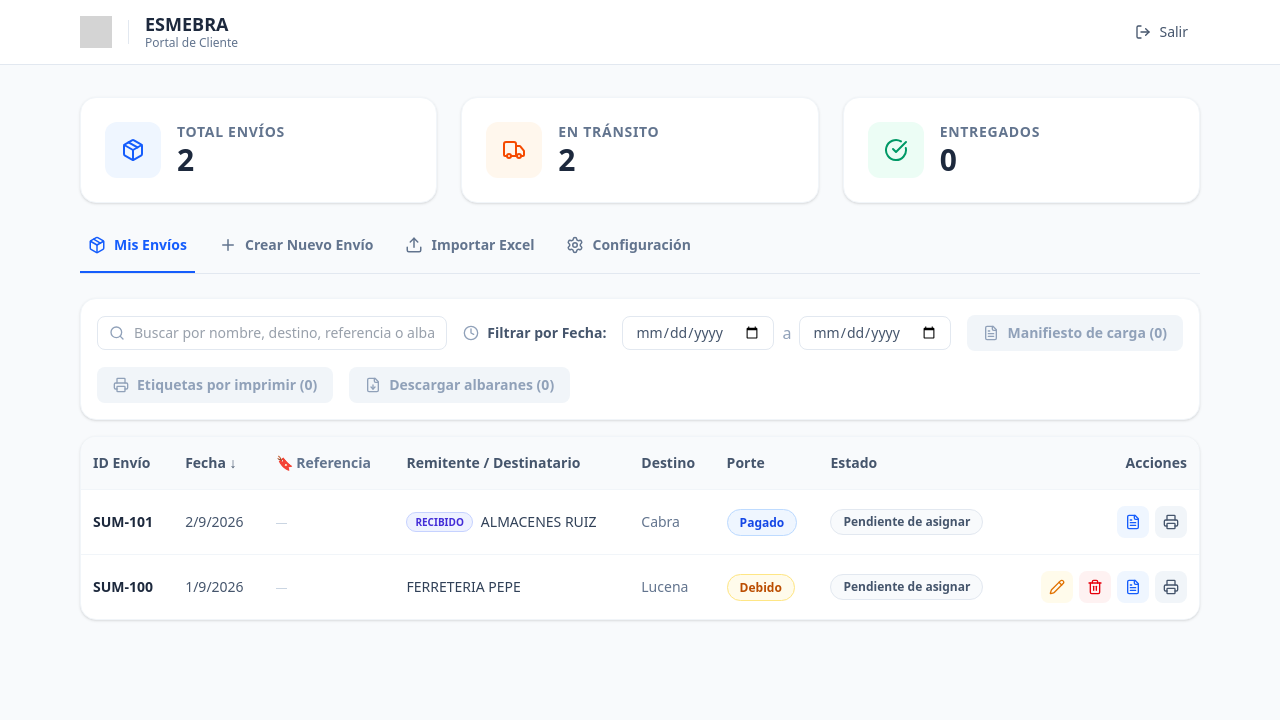
it: ClientDashboard · buscador › Limpiar filtros vacía también el buscador
This screenshot has width=1280, height=720.
Type "nada de nada" into the field named "buscar envíos" at [272, 333], box [97, 316, 447, 350]
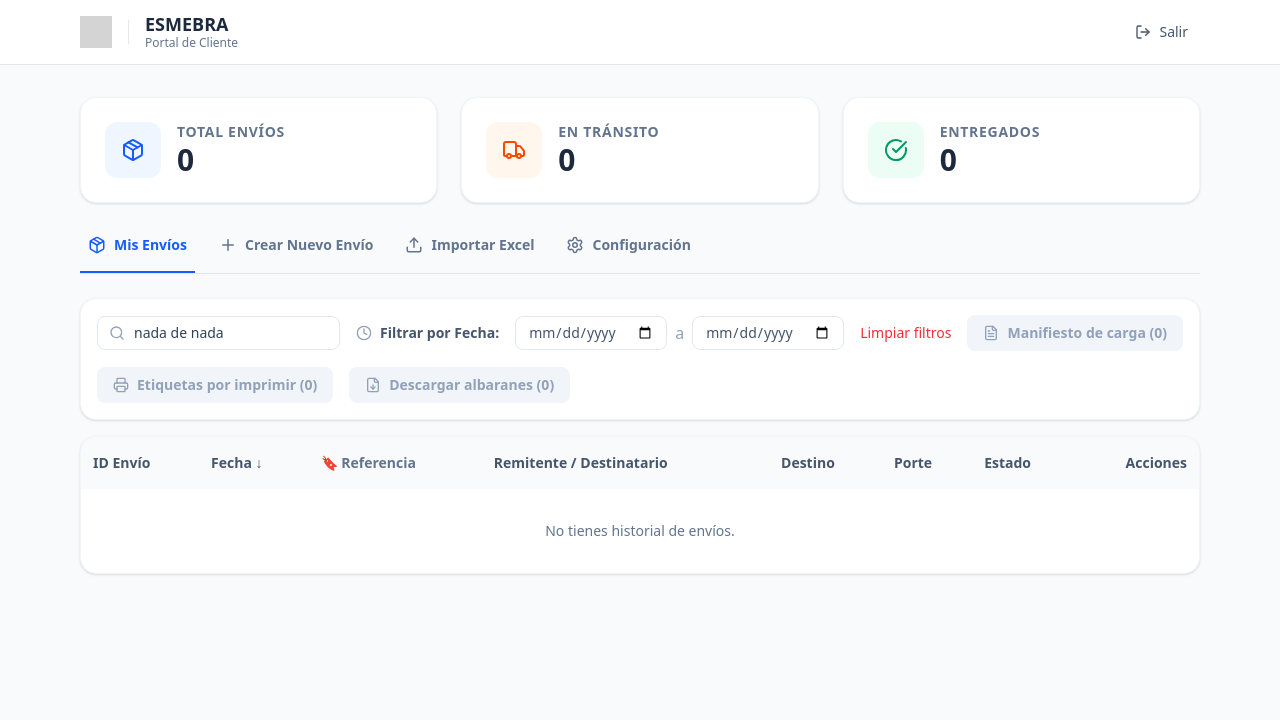
Result: the text "SUM-100" is gone
Click the button "Limpiar filtros" at [906, 333], box [860, 323, 952, 343]
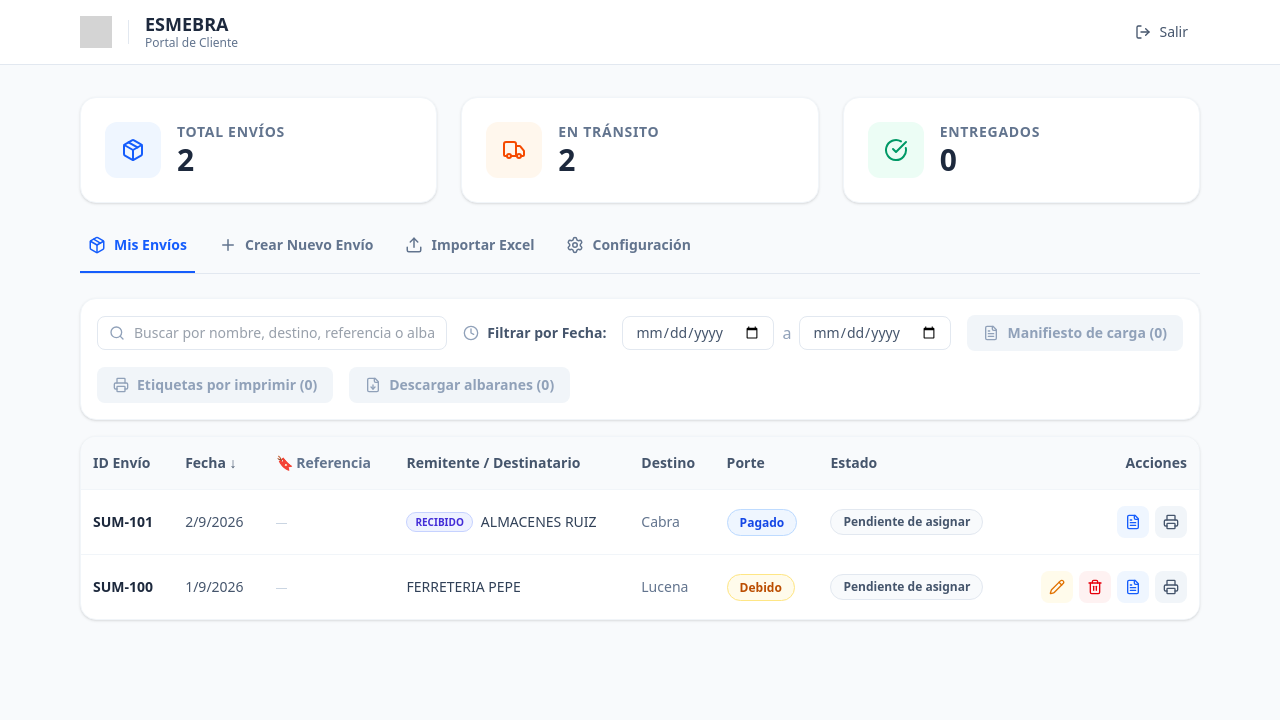
Result: the text "SUM-100" is shown at [81, 554, 173, 619]
Result: the text "SUM-101" is shown at [81, 490, 173, 554]
